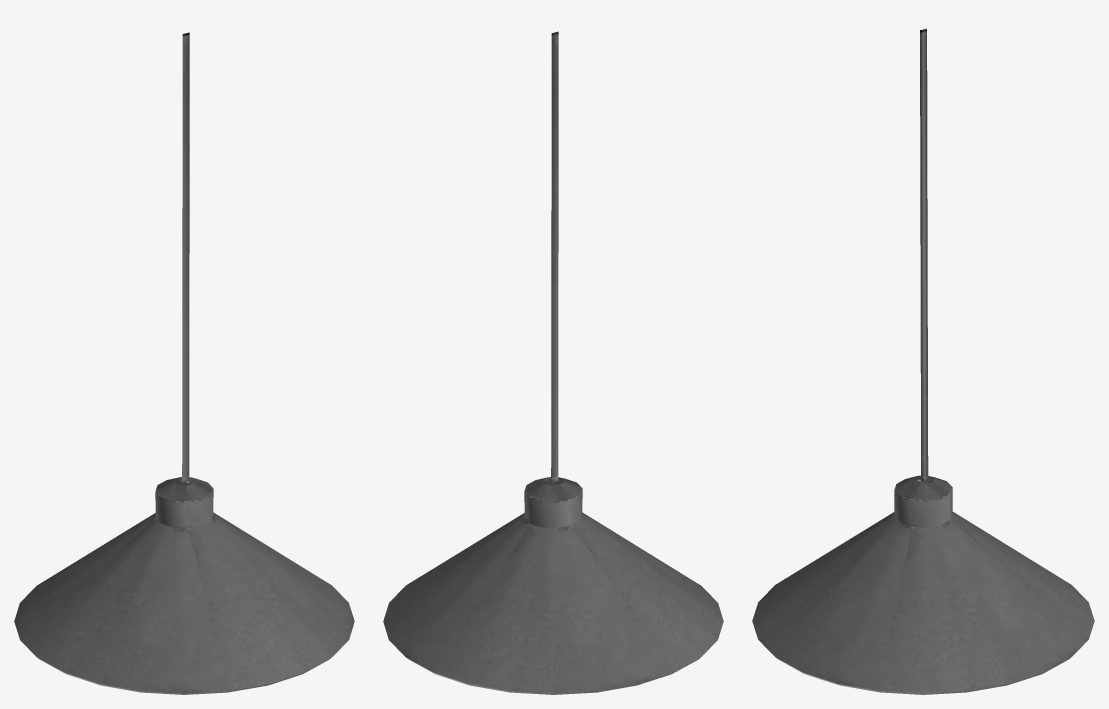
3 renders of one model, left to right at view 1: azimuth 30°, elevation 25°; view 2: azimuth 150°, elevation 25°; view 3: azimuth 270°, elevation 25°, orthographic.
Visible parts, largest first — view 1: body0_model0_lod0_mesh0; view 2: body0_model0_lod0_mesh0; view 3: body0_model0_lod0_mesh0.
Part boxes in pixels (x1,y1,x2,y2): body0_model0_lod0_mesh0: (14, 32, 354, 694); body0_model0_lod0_mesh0: (383, 31, 723, 694); body0_model0_lod0_mesh0: (752, 28, 1094, 694).
Bounding box in the file's own units: 32 × 61.87 × 32.
1 material, 1 textured.
